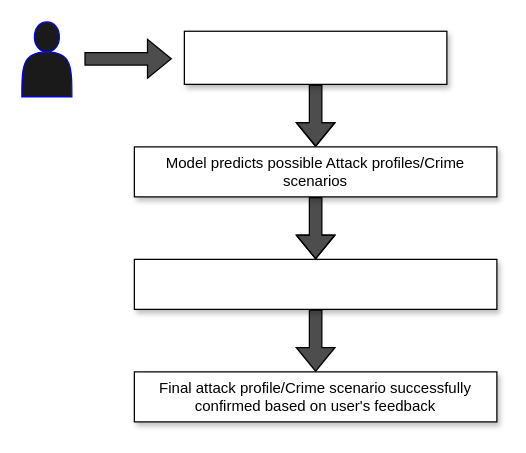
The diagram is 526 pixels wide and 453 high, and some of its shapes have lost their labels. The shapes that lost their labels are listed below. From the top down, each one's centre as x and y in pixels, then its label:
At point 316,59: "Submit Story/Scenario".
At point 316,285: "Model comes up with follow-up questions to increase the accuracy of prediction".
